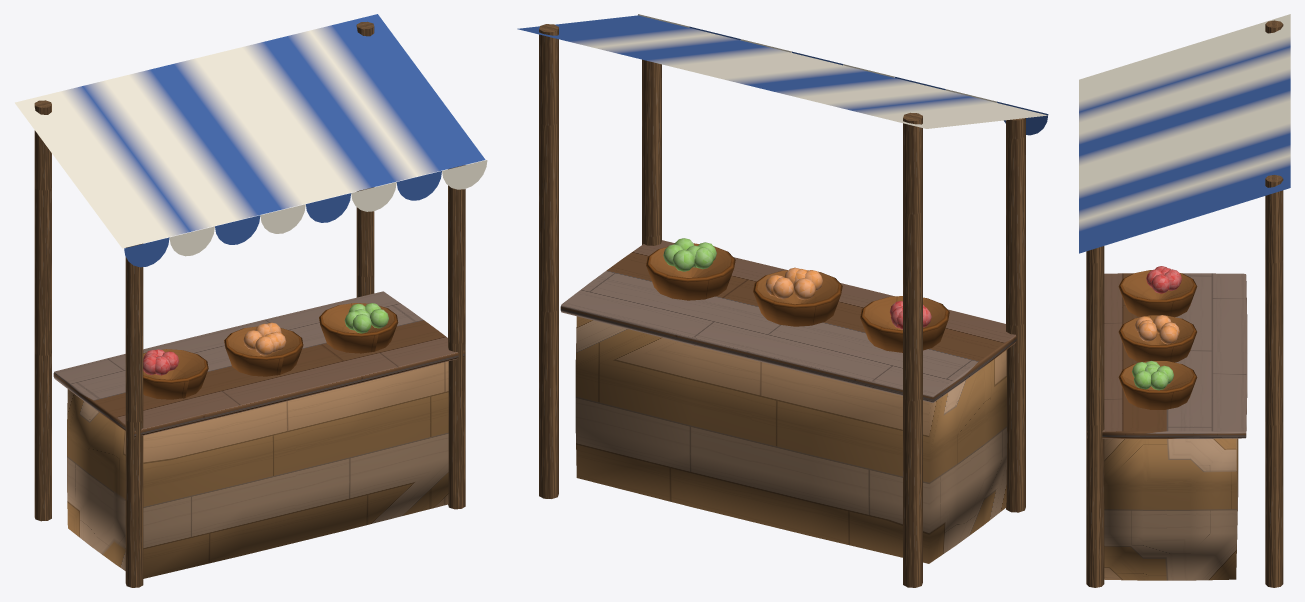
File: prop_market_stall_blue.glb
The picture shows the model from 3 angles, left to right: view 1: azimuth 30°, elevation 25°; view 2: azimuth 150°, elevation 25°; view 3: azimuth 270°, elevation 25°; orthographic projection. The views are drawn at different scales.
Visible parts, largest first — view 1: prop_market_stall, prop_market_stall_wood; view 2: prop_market_stall, prop_market_stall_wood; view 3: prop_market_stall, prop_market_stall_wood.
Part boxes in pixels (box(x1,y1,x2,y2)): prop_market_stall: box(15, 14, 487, 587); prop_market_stall_wood: box(67, 303, 448, 578); prop_market_stall: box(517, 14, 1048, 587); prop_market_stall_wood: box(575, 243, 1006, 563); prop_market_stall: box(1079, 14, 1290, 587); prop_market_stall_wood: box(1104, 270, 1238, 580).
Size of the model in its own units: 2.31 by 2.5 by 1.19.
5 materials, 3 textured.
